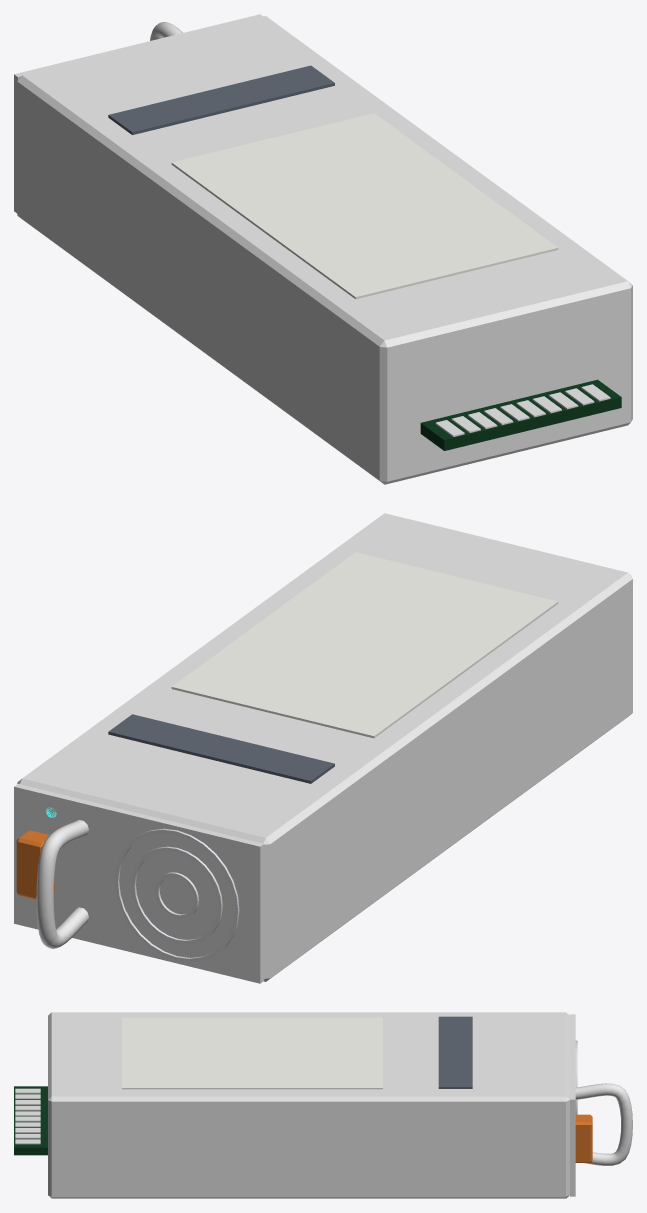
The model's file is hw_psu_2000w_tit.glb.
3 views of the same model, one above another, from view 1: azimuth 30°, elevation 25°; view 2: azimuth 150°, elevation 25°; view 3: azimuth 270°, elevation 25° (orthographic). The views are drawn at different scales.
Parts seen in each view (by area): view 1: Body; view 2: Body; view 3: Body.
Boxes of the visible parts, x1,y1,x2,y2 form: Body: (14, 14, 632, 484); Body: (14, 513, 632, 983); Body: (14, 1012, 632, 1198).
Bounding box in the file's own units: 0.0735 × 0.041 × 0.2193.
